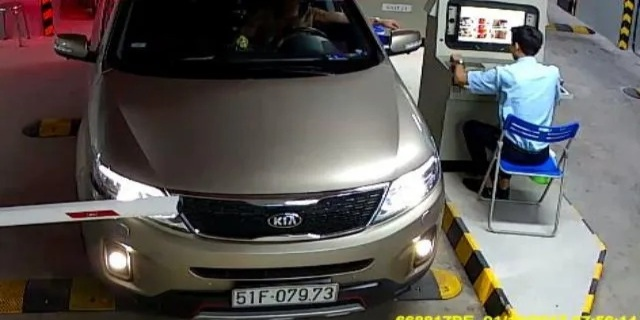bien_so: (233, 286, 338, 306)
